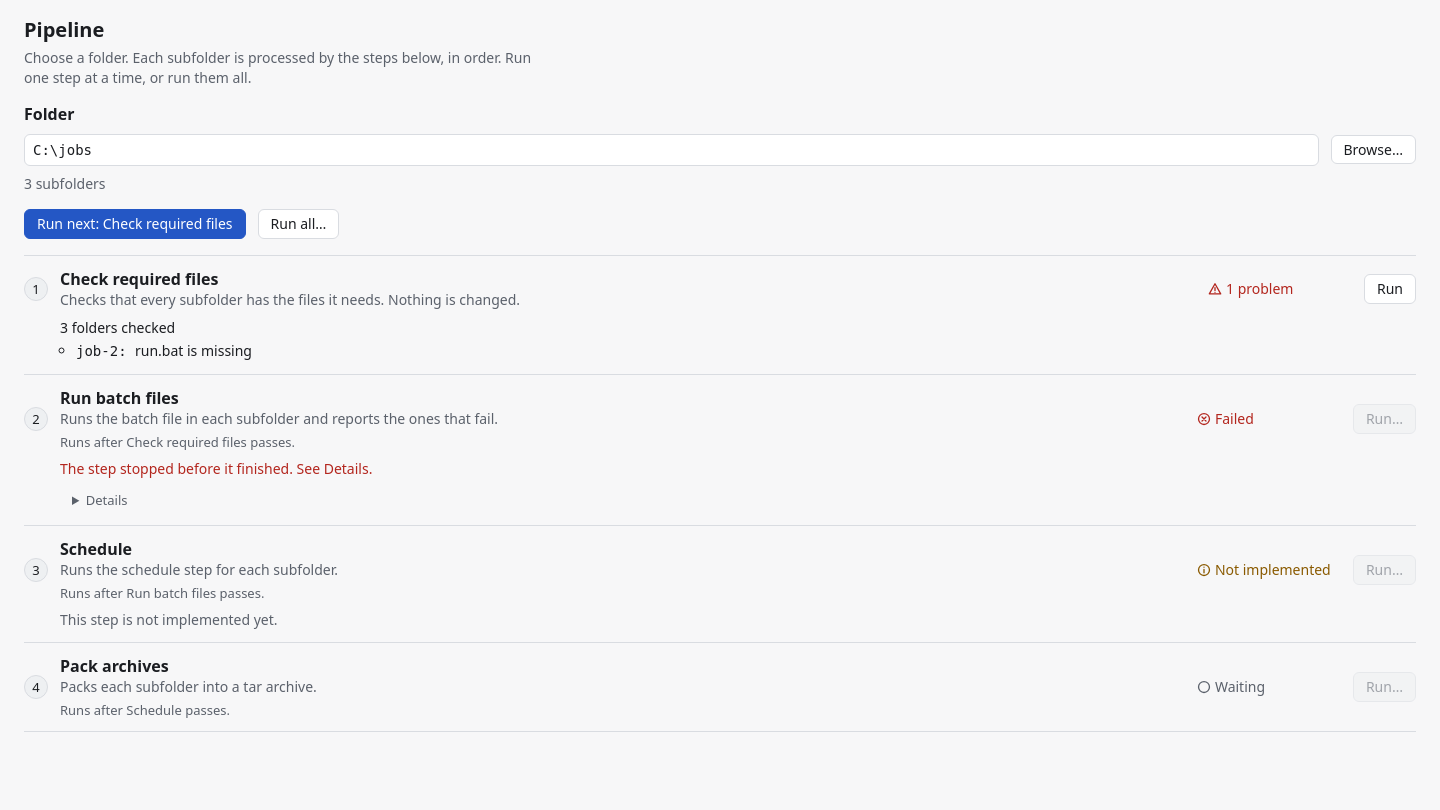
results, problems, failures and the confirmation have no axe violations
This screenshot has width=1440, height=810.
Expected: the field labelled "Folder" is shown, top-left (24, 134), bottom-right (1318, 166)
Click the button "Run all…". click: {"x": 298, "y": 224}
box: top-left (258, 209), bottom-right (339, 239)
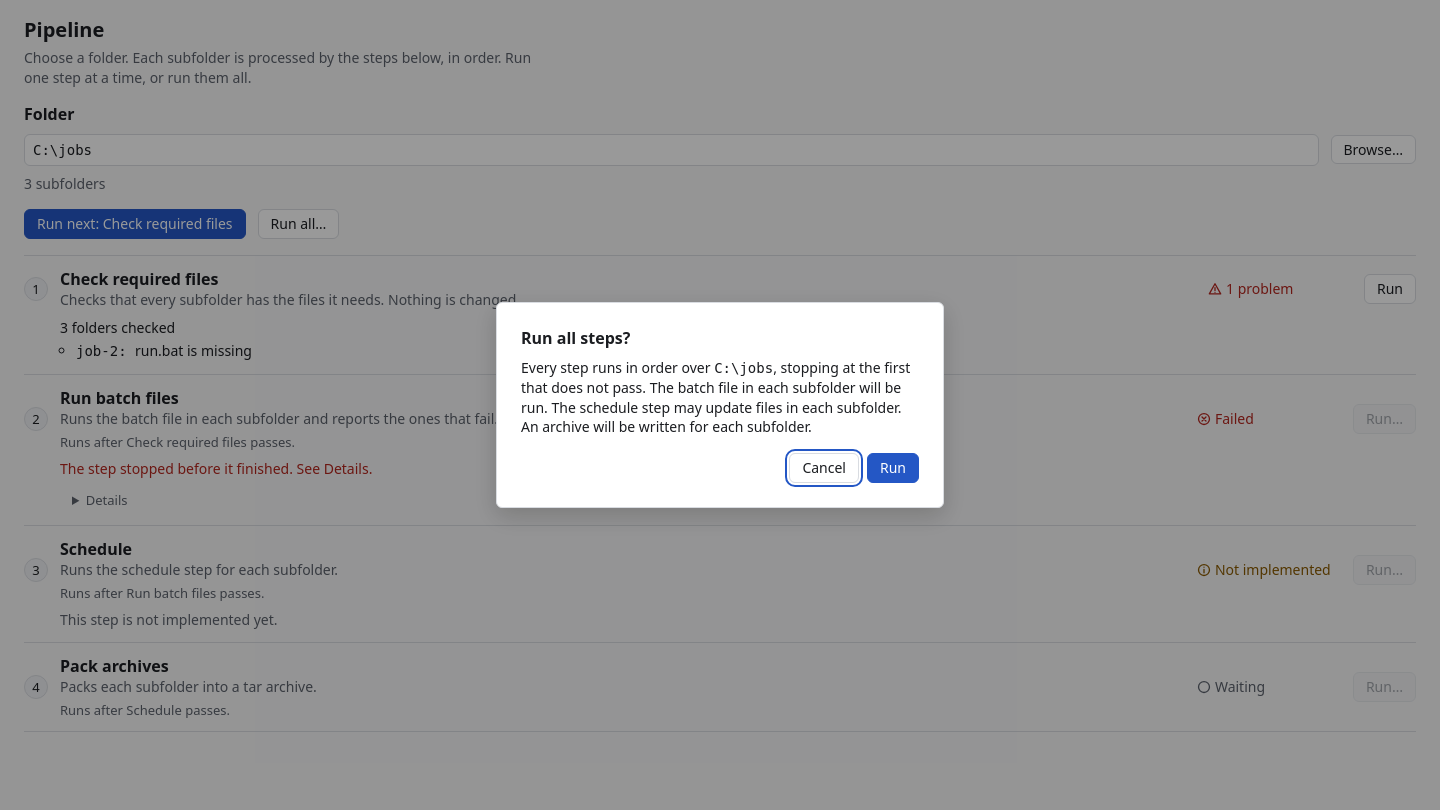
Result: the dialog "Run all steps?" is shown at top-left (496, 302), bottom-right (944, 508)
